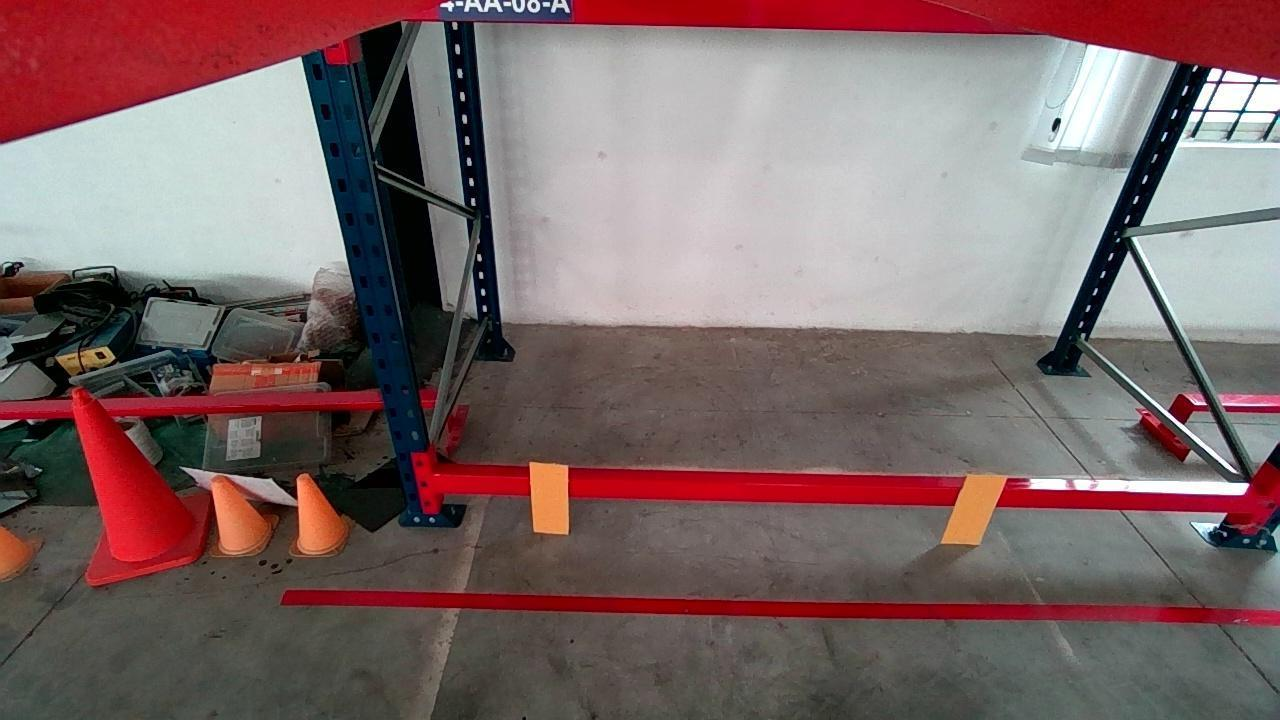h_rack: (432, 475, 1261, 515), (412, 0, 1034, 31)
orange_strip: (941, 472, 1011, 545), (529, 462, 571, 536)
red_line: (285, 589, 1280, 623)
